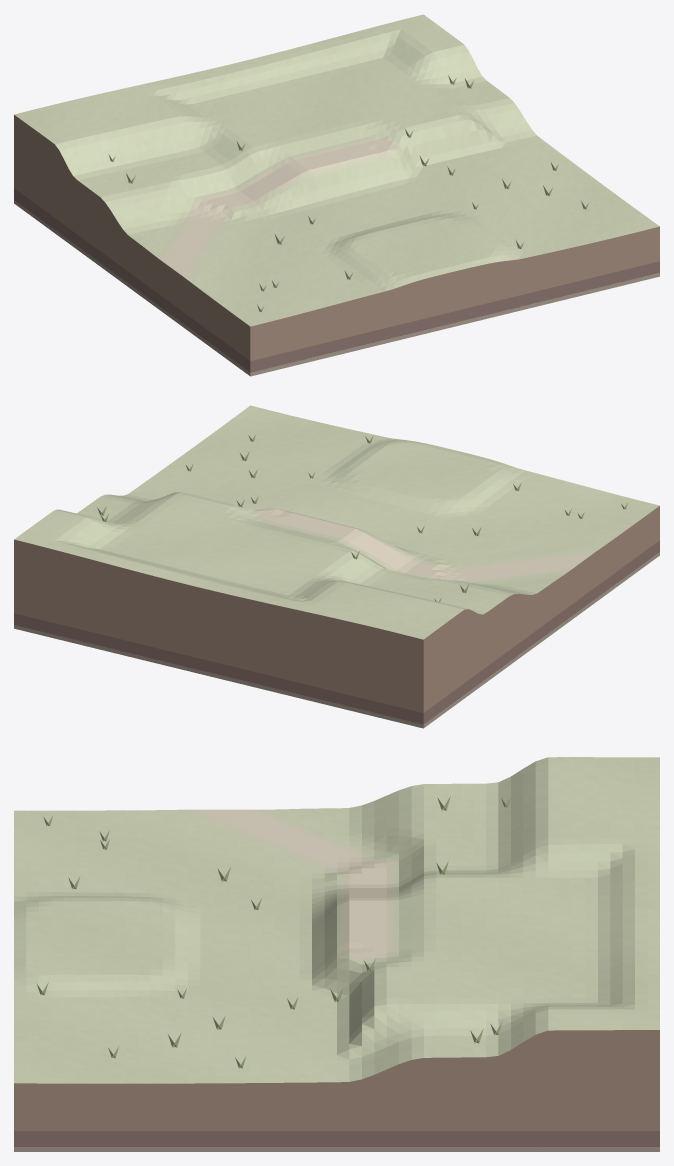
3 views of the same model, one above another, from view 1: azimuth 30°, elevation 25°; view 2: azimuth 150°, elevation 25°; view 3: azimuth 270°, elevation 25° (orthographic). The views are drawn at different scales.
Parts seen in each view (by area): view 1: proc_ground, proc_skirt, proc_grass; view 2: proc_ground, proc_skirt, proc_grass; view 3: proc_ground, proc_skirt, proc_grass.
Part boxes in pixels (bbox=[...]): proc_ground: bbox=[14, 14, 659, 326]; proc_skirt: bbox=[14, 115, 659, 376]; proc_grass: bbox=[108, 75, 588, 311]; proc_ground: bbox=[14, 405, 659, 639]; proc_skirt: bbox=[14, 506, 659, 728]; proc_grass: bbox=[97, 434, 627, 602]; proc_ground: bbox=[14, 757, 659, 1083]; proc_skirt: bbox=[14, 1030, 659, 1151]; proc_grass: bbox=[37, 796, 510, 1068].
Size of the model in its own units: 8 by 1.66 by 8.
